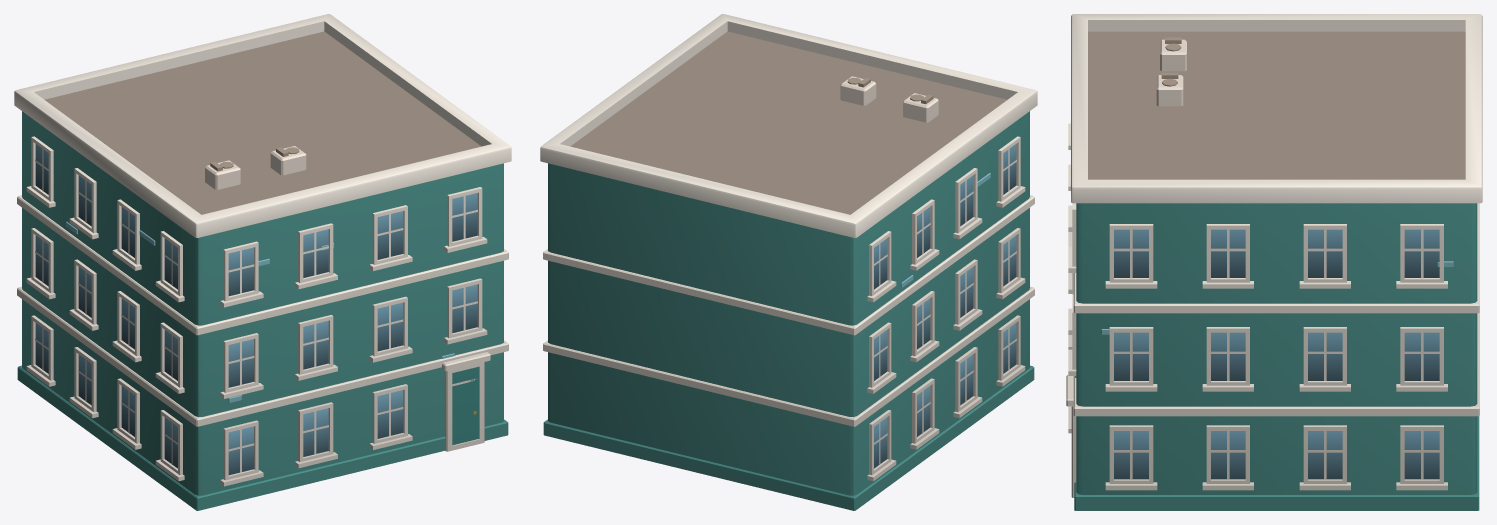
Rendered from tremont_n2.glb.
The picture shows the model from 3 angles, left to right: view 1: azimuth 30°, elevation 25°; view 2: azimuth 150°, elevation 25°; view 3: azimuth 270°, elevation 25°; orthographic projection. The views are drawn at different scales.
Parts seen in each view (by area): view 1: tremont_n2; view 2: tremont_n2; view 3: tremont_n2.
Part boxes in pixels (x1=…): tremont_n2: x1=14, y1=14, x2=511, y2=510; tremont_n2: x1=540, y1=14, x2=1037, y2=510; tremont_n2: x1=1066, y1=14, x2=1482, y2=510.
Size of the model in its own units: 12.48 by 11.11 by 12.46.
1 material, 1 textured.
